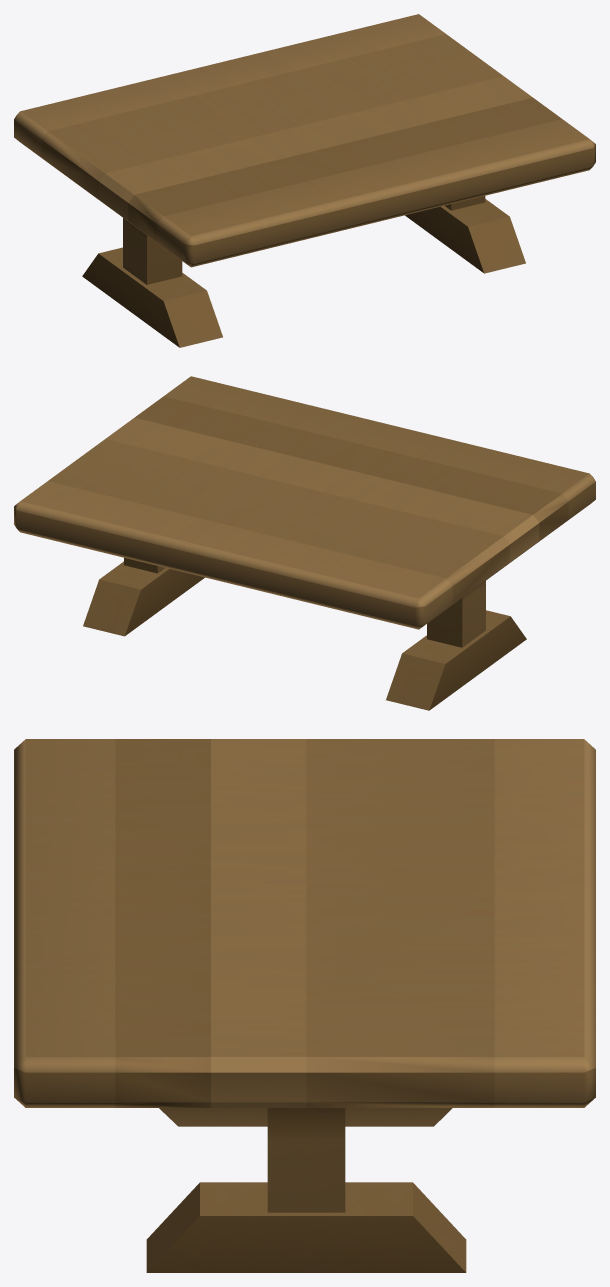
Rendered from table_roof.fbx.
The picture shows the model from 3 angles, top to bottom: view 1: azimuth 30°, elevation 25°; view 2: azimuth 150°, elevation 25°; view 3: azimuth 270°, elevation 25°; orthographic projection. The views are drawn at different scales.
Visible parts, largest first — view 1: table_roof; view 2: table_roof; view 3: table_roof.
Part boxes in pixels (bbox=[...]): table_roof: bbox=[14, 14, 595, 347]; table_roof: bbox=[14, 376, 595, 710]; table_roof: bbox=[14, 739, 595, 1272].
Bounding box in the file's own units: 203 × 68.43 × 152.
